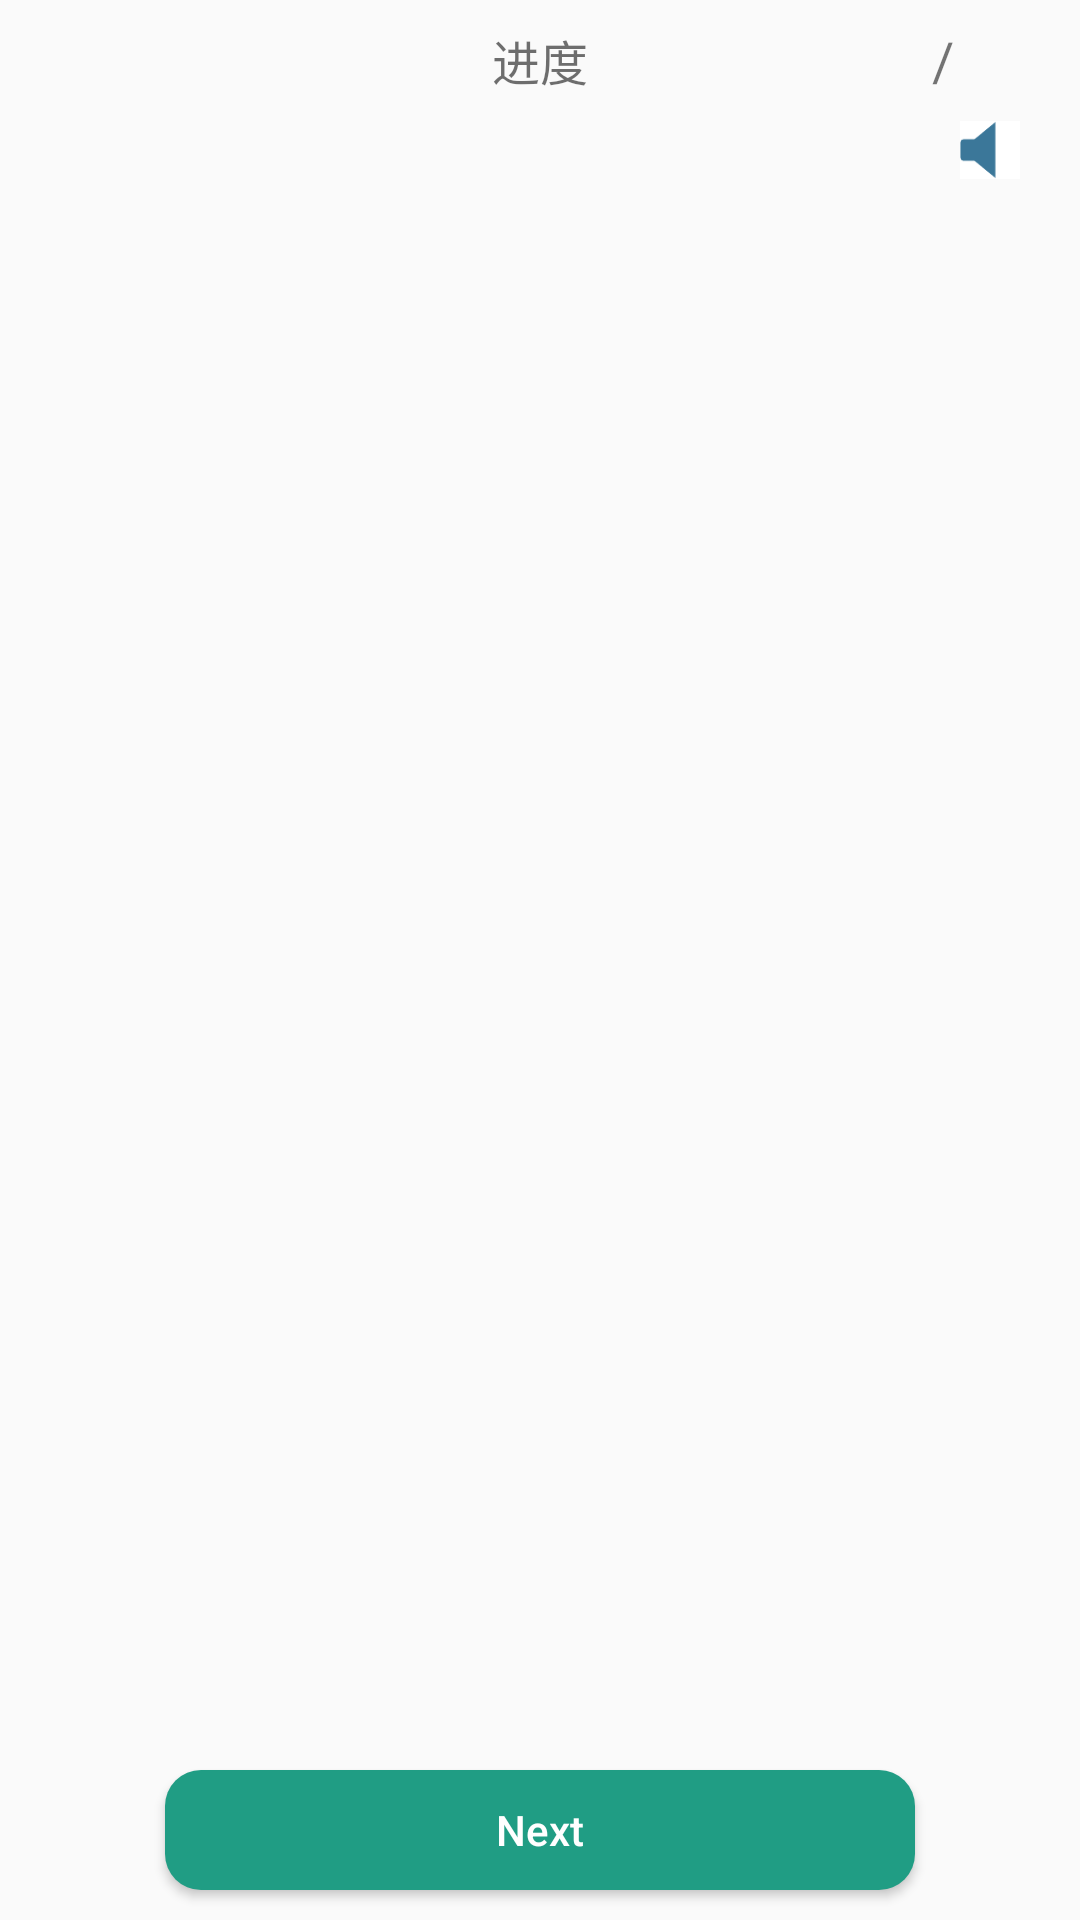

Screen size 1080 × 1920. Icon name, then its center in pixels as point (x, y):
read: point (978, 150)
